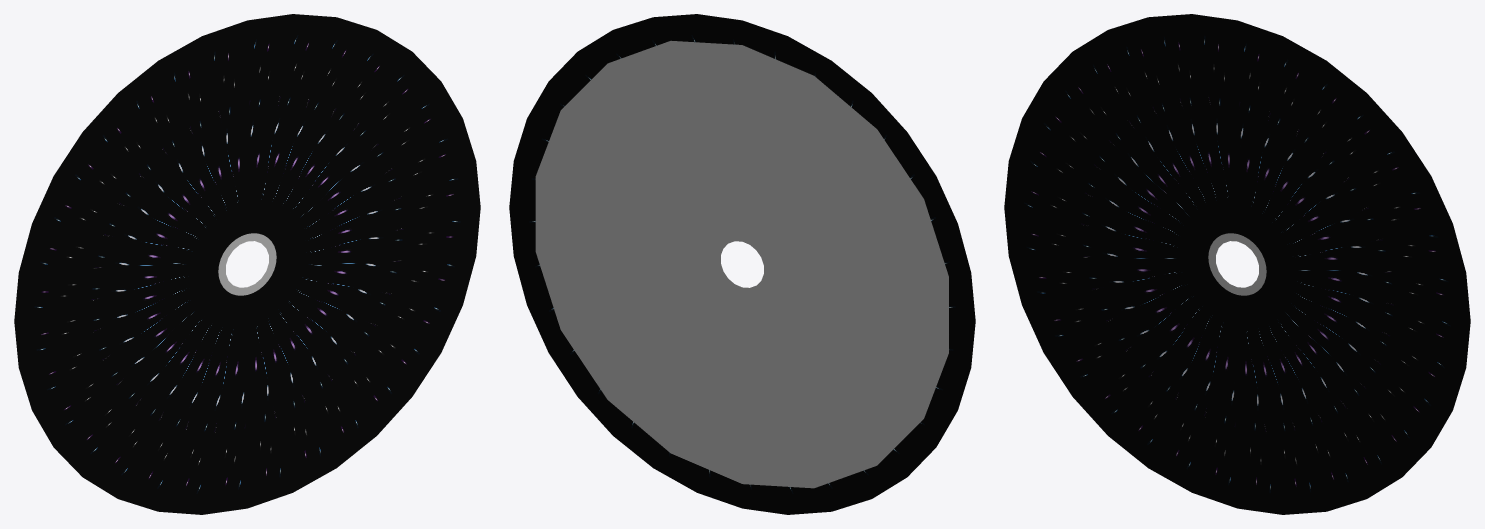
The model's file is tx_anhuan_fire.obj.
3 renders of one model, left to right at view 1: azimuth 30°, elevation 25°; view 2: azimuth 150°, elevation 25°; view 3: azimuth 330°, elevation 25°, orthographic.
Parts seen in each view (by area): view 1: Cylinder02#2, Plane02222#3; view 2: Plane02222#3, Cylinder02#2; view 3: Cylinder02#2, Plane02222#3.
Boxes of the visible parts, bbox=[...] form: Cylinder02#2: bbox=[14, 14, 480, 514]; Plane02222#3: bbox=[218, 233, 276, 295]; Plane02222#3: bbox=[535, 40, 948, 488]; Cylinder02#2: bbox=[509, 14, 975, 514]; Cylinder02#2: bbox=[1004, 14, 1470, 514]; Plane02222#3: bbox=[1208, 233, 1266, 295].
Size of the model in its own units: 261 by 261 by 0.1001.
